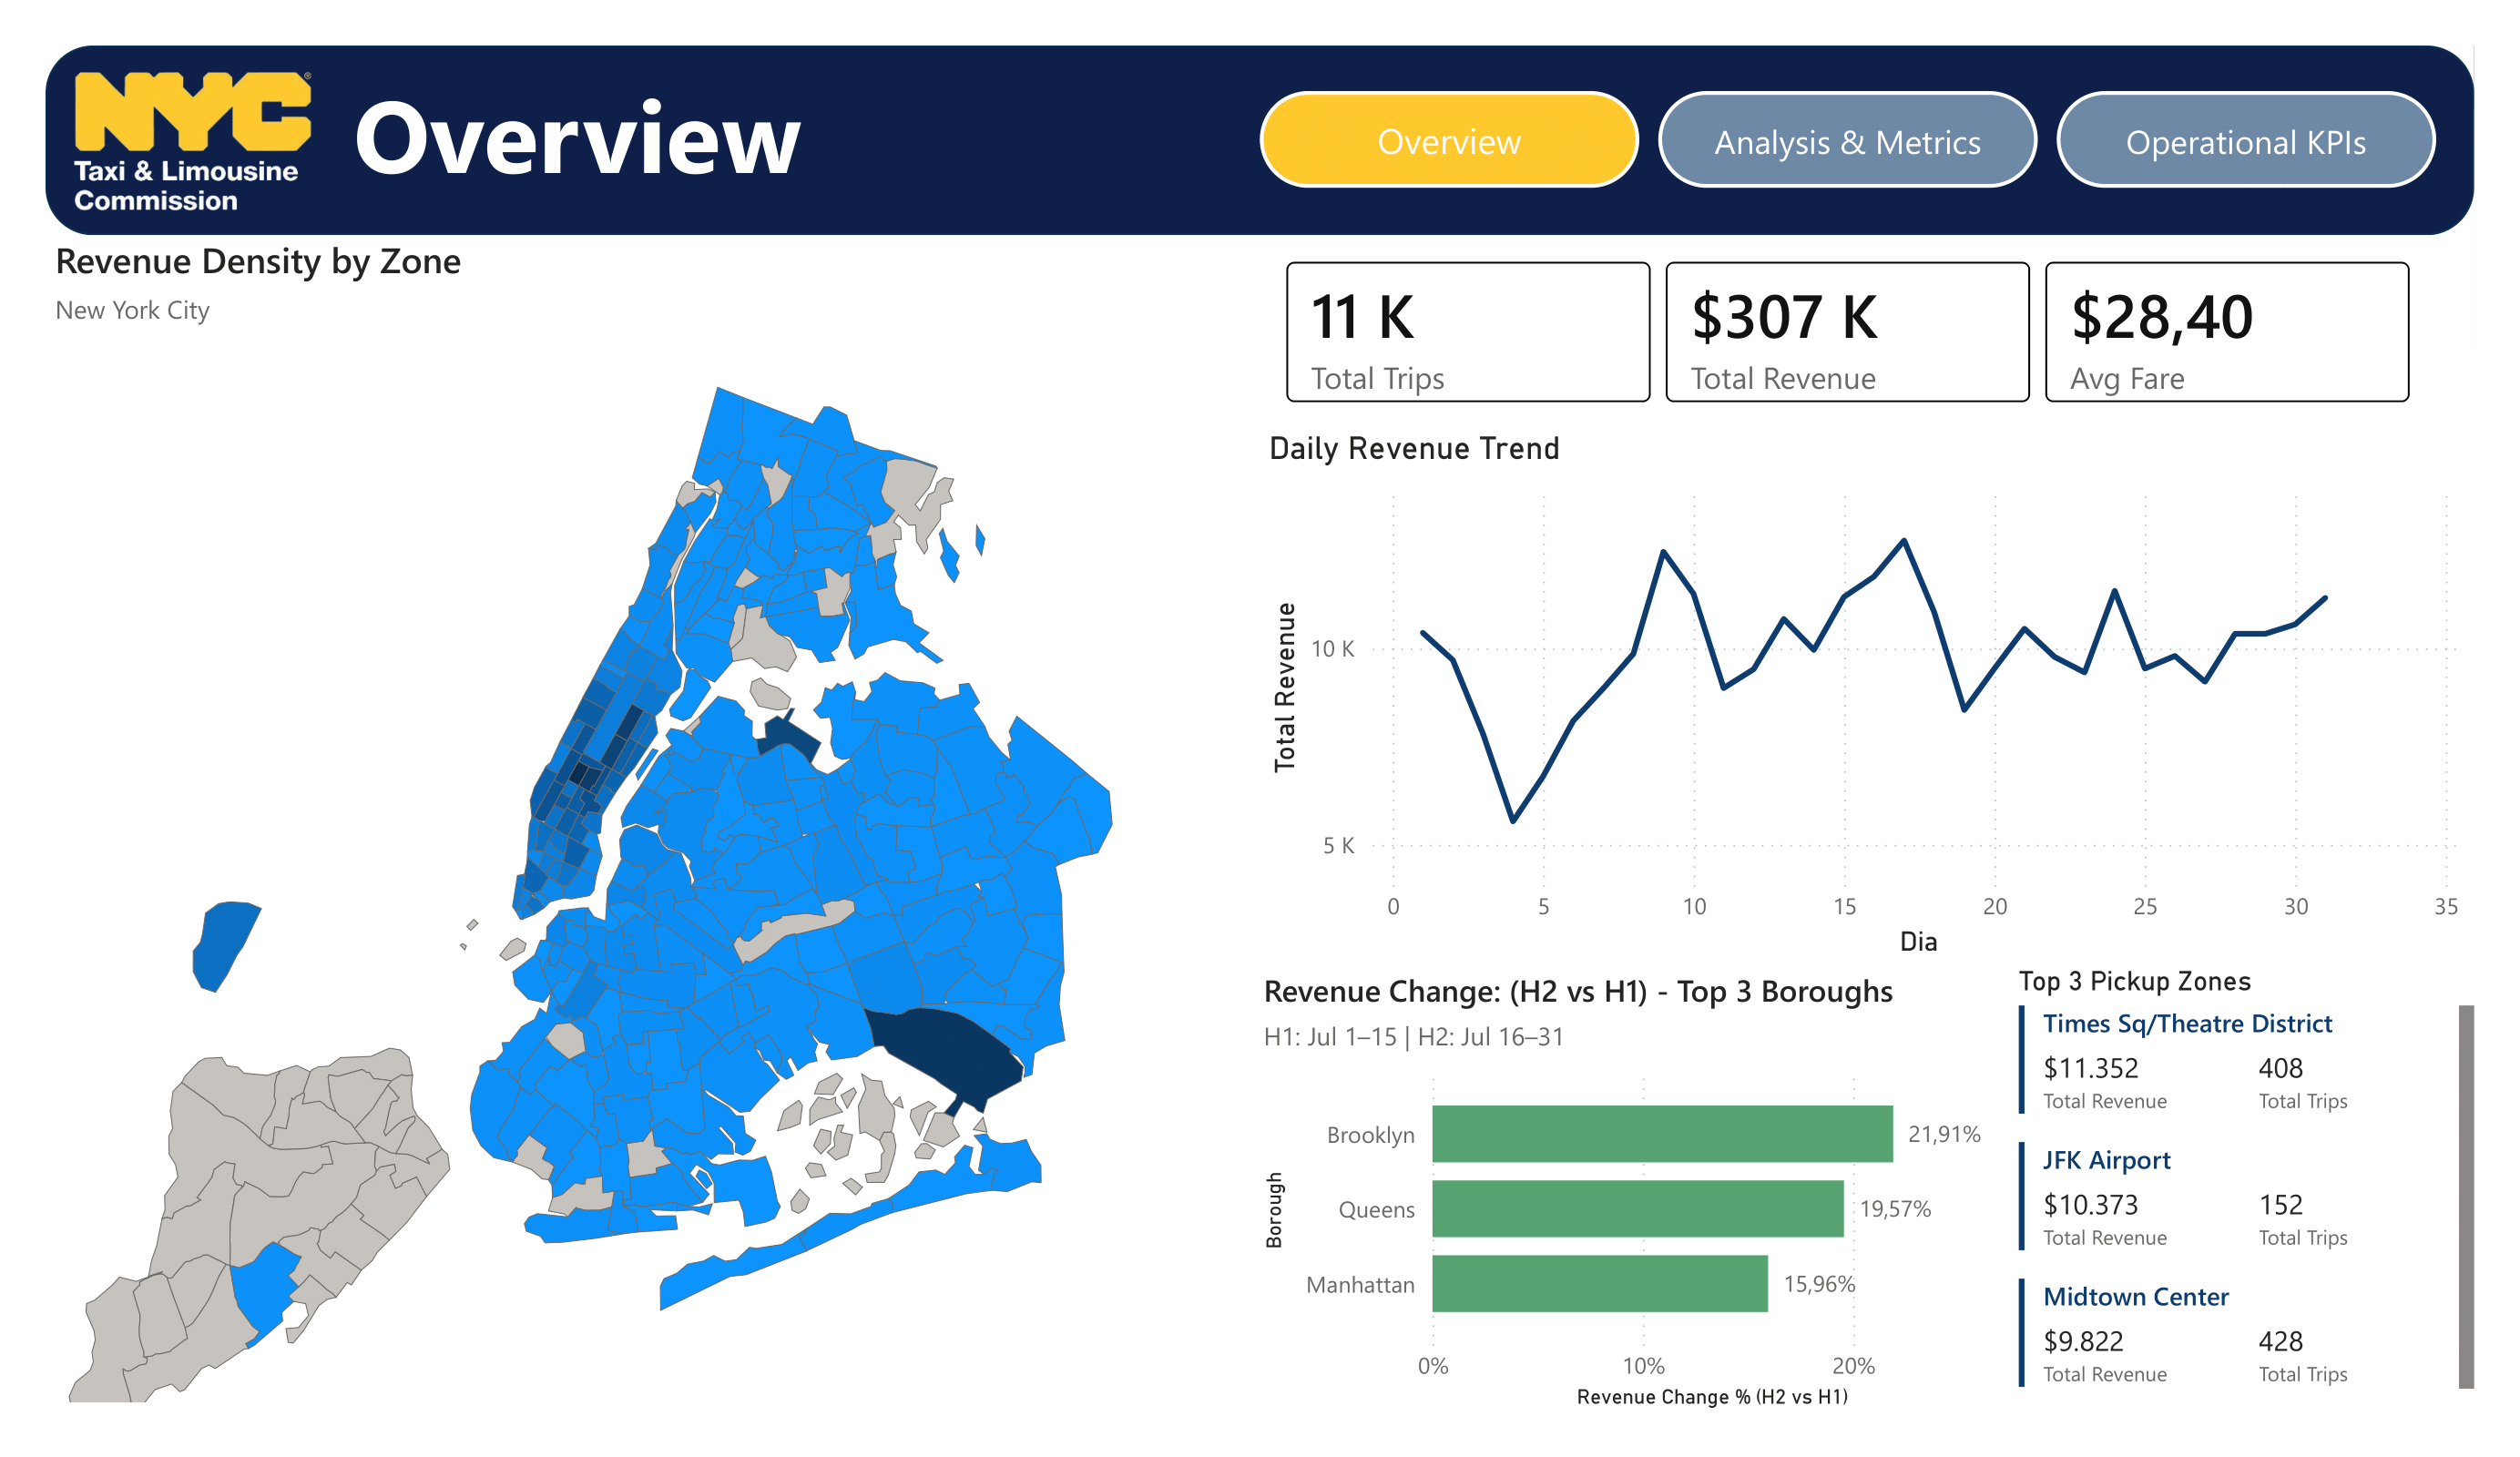

Layout of this report page (visuals, bound fields, positions):
{"tool":"powerbi","page":{"name":"Overview","canvas":[1280,720],"ordinal":0},"visuals":[{"type":"shape","box":[0,0,1280,100],"z":0,"group":"g1"},{"type":"group","id":"g1","title":"Grupo 1","box":[0,0,1280,100],"z":0},{"type":"image","box":[0,9.1,155.5,81.8],"z":1000,"group":"g1"},{"type":"shapeMap","title":"Revenue Density by Zone","fields":{"Category":["dw Dim_Location.Zone"],"Value":["dw Fact_Trip.Total Revenue"]},"box":[0,99.8,640,619.8],"z":1000},{"type":"pageNavigator","box":[640,24.2,620.9,50.4],"z":2000,"group":"g1"},{"type":"lineChart","title":"Daily Revenue Trend","fields":{"Category":["dw Dim_Date.FullDate.Variação.Hierarquia de Datas.Dia","dw Dim_TimeOfDay.TimeBucket","dw Dim_TimeOfDay.Hour"],"Y":["dw Fact_Trip.Total Revenue"]},"box":[640,202,640,283],"z":2000},{"type":"textbox","box":[162.3,9.1,477.7,70.6],"z":3000,"group":"g1"},{"type":"cardVisual","fields":{"Data":["dw Fact_Trip.Total Trips","dw Fact_Trip.Total Revenue","dw Fact_Trip.Avg Fare"]},"box":[640,100,621,102],"z":3000},{"type":"barChart","title":"Revenue Change: (H2 vs H1) - Top 3 Boroughs","fields":{"Category":["dw Dim_Location.Borough"],"Y":["dw Fact_Trip.Revenue Change % (H2 vs H1)"]},"box":[640,485,400,235],"z":4000},{"type":"multiRowCard","title":"Top 3 Pickup Zones","fields":{"Values":["dw Dim_Location.Zone","dw Fact_Trip.Total Revenue","dw Fact_Trip.Total Trips"]},"box":[1040,485,240,235],"z":5000}]}

Visuals, with their boxes on the page's 1280x720 design canvas (x1, y1, x2, y2). These are canvas units, not pixel positions in the 2520x1457 screenshot, which may show the page scaled, cropped or inside an application window:
shape: bbox=[0, 0, 1280, 100]
"Grupo 1" group: bbox=[0, 0, 1280, 100]
image: bbox=[0, 9, 156, 91]
"Revenue Density by Zone" shapeMap: bbox=[0, 100, 640, 720]
pageNavigator: bbox=[640, 24, 1261, 75]
"Daily Revenue Trend" lineChart: bbox=[640, 202, 1280, 485]
textbox: bbox=[162, 9, 640, 80]
cardVisual - dw Fact_Trip.Total Trips x dw Fact_Trip.Total Revenue: bbox=[640, 100, 1261, 202]
"Revenue Change: (H2 vs H1) - Top 3 Boroughs" barChart: bbox=[640, 485, 1040, 720]
"Top 3 Pickup Zones" multiRowCard: bbox=[1040, 485, 1280, 720]
